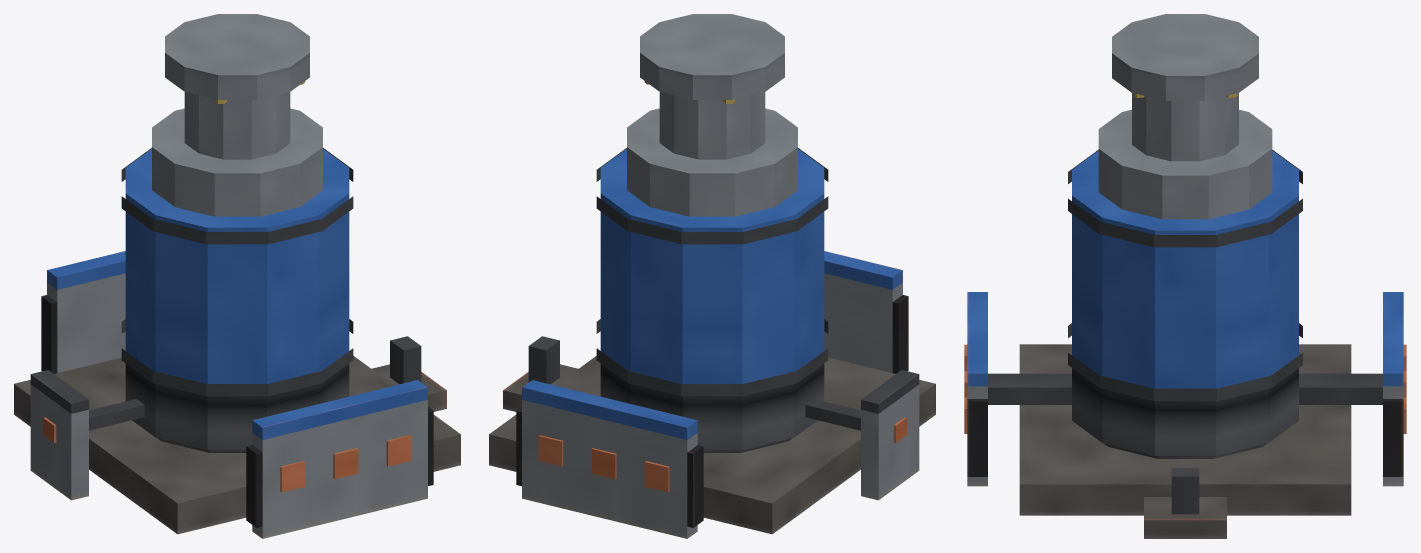
The model's file is submersiblepump200v.obj.
3 views of the same model, side by side, from view 1: azimuth 30°, elevation 25°; view 2: azimuth 150°, elevation 25°; view 3: azimuth 270°, elevation 25° (orthographic).
Visible parts, largest first — view 1: main; view 2: main; view 3: main.
Boxes of the visible parts, left/top/right/bottom form: main: left=14, top=14, right=460, bottom=538; main: left=489, top=14, right=935, bottom=538; main: left=964, top=14, right=1406, bottom=538.
Bounding box in the file's own units: 1 × 1 × 1.
Materials: 1 (1 with a texture image).
